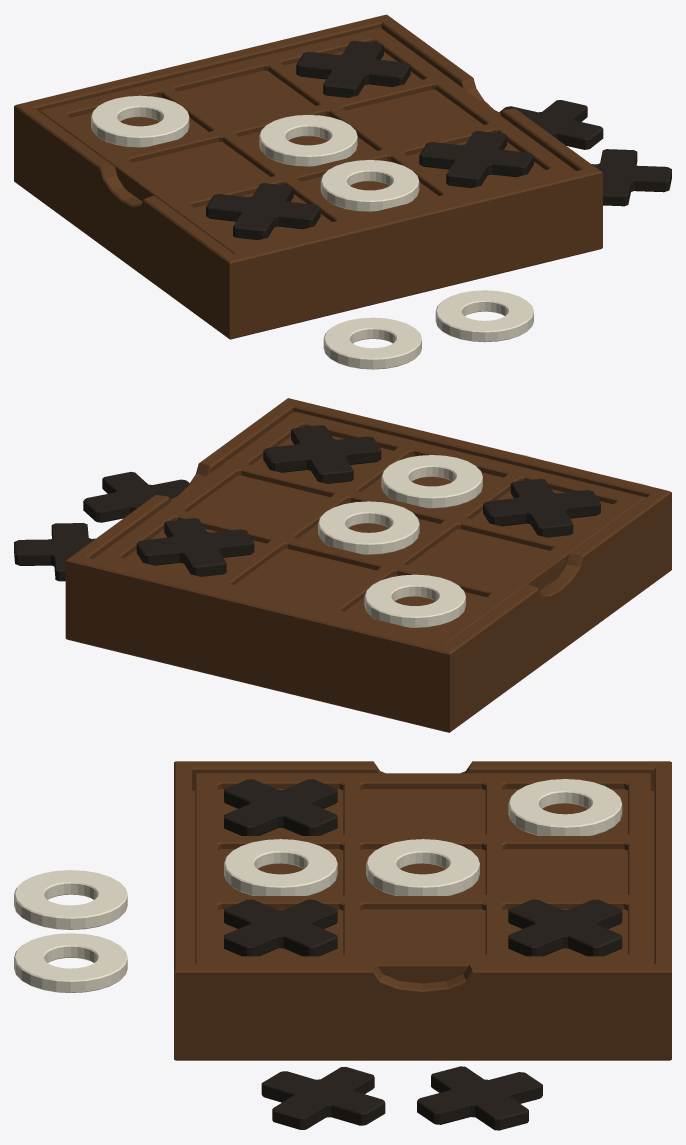
3 views of the same model, one above another, from view 1: azimuth 30°, elevation 25°; view 2: azimuth 150°, elevation 25°; view 3: azimuth 270°, elevation 25° (orthographic). The views are drawn at different scales.
Parts seen in each view (by area): view 1: 01_Hollow_storage_base, 02_Removable_3x3_recess_board, X01_Solid_cross_token, X02_Solid_cross_token, X03_Solid_cross_token, O05_Ring_token, O04_Ring_token, O03_Ring_token, O02_Ring_token, O01_Ring_token, X04_Solid_cross_token, X05_Solid_cross_token; view 2: 01_Hollow_storage_base, 02_Removable_3x3_recess_board, X02_Solid_cross_token, X01_Solid_cross_token, X03_Solid_cross_token, O02_Ring_token, O03_Ring_token, O01_Ring_token, X04_Solid_cross_token, X05_Solid_cross_token; view 3: 01_Hollow_storage_base, 02_Removable_3x3_recess_board, X04_Solid_cross_token, X05_Solid_cross_token, X01_Solid_cross_token, X03_Solid_cross_token, X02_Solid_cross_token, O05_Ring_token, O04_Ring_token, O01_Ring_token, O03_Ring_token, O02_Ring_token.
Part boxes in pixels (x1=…): 01_Hollow_storage_base: x1=14, y1=14, x2=602, y2=339; 02_Removable_3x3_recess_board: x1=39, y1=27, x2=575, y2=254; X01_Solid_cross_token: x1=296, y1=40, x2=410, y2=97; X02_Solid_cross_token: x1=206, y1=183, x2=320, y2=240; X03_Solid_cross_token: x1=419, y1=131, x2=533, y2=187; O05_Ring_token: x1=435, y1=290, x2=533, y2=342; O04_Ring_token: x1=323, y1=317, x2=421, y2=369; O03_Ring_token: x1=320, y1=160, x2=419, y2=211; O02_Ring_token: x1=259, y1=115, x2=357, y2=166; O01_Ring_token: x1=91, y1=95, x2=189, y2=147; X04_Solid_cross_token: x1=591, y1=149, x2=671, y2=206; X05_Solid_cross_token: x1=499, y1=100, x2=603, y2=149; 01_Hollow_storage_base: x1=65, y1=398, x2=671, y2=732; 02_Removable_3x3_recess_board: x1=93, y1=411, x2=645, y2=644; X02_Solid_cross_token: x1=483, y1=478, x2=600, y2=537; X01_Solid_cross_token: x1=136, y1=518, x2=254, y2=576; X03_Solid_cross_token: x1=263, y1=425, x2=381, y2=483; O02_Ring_token: x1=318, y1=501, x2=419, y2=554; O03_Ring_token: x1=381, y1=455, x2=482, y2=508; O01_Ring_token: x1=364, y1=574, x2=465, y2=627; X04_Solid_cross_token: x1=83, y1=472, x2=189, y2=522; X05_Solid_cross_token: x1=14, y1=523, x2=95, y2=581; 01_Hollow_storage_base: x1=174, y1=761, x2=671, y2=1060; 02_Removable_3x3_recess_board: x1=195, y1=773, x2=650, y2=983; X04_Solid_cross_token: x1=261, y1=1066, x2=385, y2=1129; X05_Solid_cross_token: x1=417, y1=1066, x2=542, y2=1130; X01_Solid_cross_token: x1=508, y1=899, x2=622, y2=956; X03_Solid_cross_token: x1=224, y1=899, x2=337, y2=956; X02_Solid_cross_token: x1=224, y1=779, x2=337, y2=835; O05_Ring_token: x1=14, y1=933, x2=127, y2=992; O04_Ring_token: x1=14, y1=870, x2=127, y2=929; O01_Ring_token: x1=508, y1=779, x2=622, y2=835; O03_Ring_token: x1=224, y1=839, x2=337, y2=895; O02_Ring_token: x1=366, y1=839, x2=479, y2=895.
Bounding box in the file's own units: 0.1867 × 0.029 × 0.185.
